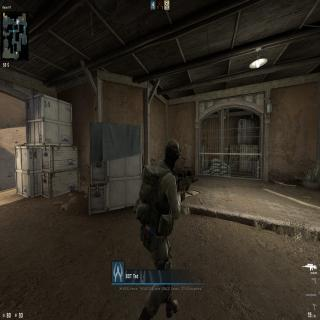CT-Head: (163, 136, 181, 170)
